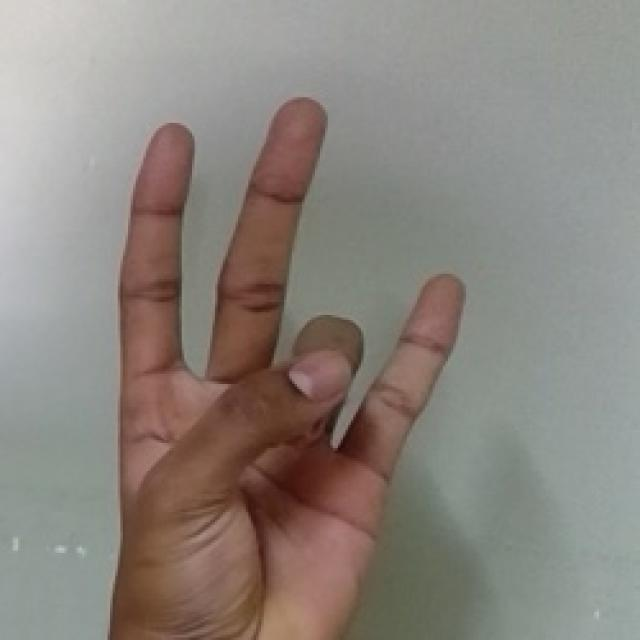Numeric-7: (106, 92, 462, 622)
